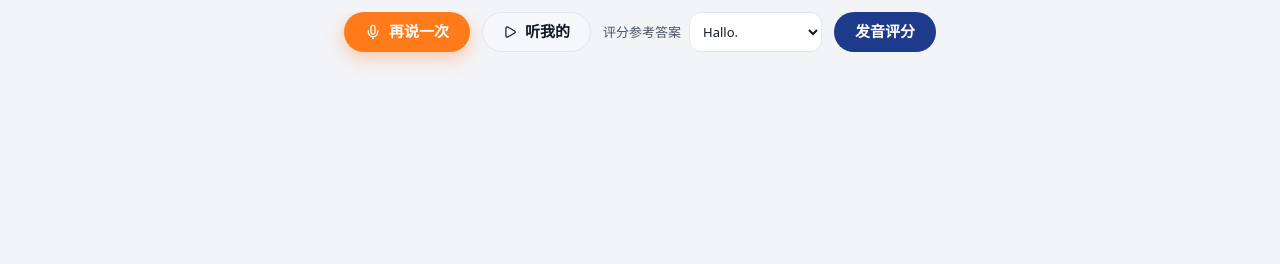
Test case: optional pronunciation scoring › scores a saved oral take against the selected reference and shows weak words
The width and height of the screenshot is (1280, 264).
Check: the button "发音评分" is shown, box left=834, top=12, right=936, bottom=52
Select "Goedemorgen." in the dropdown labelled "评分参考答案": (756, 32) left=689, top=12, right=822, bottom=52
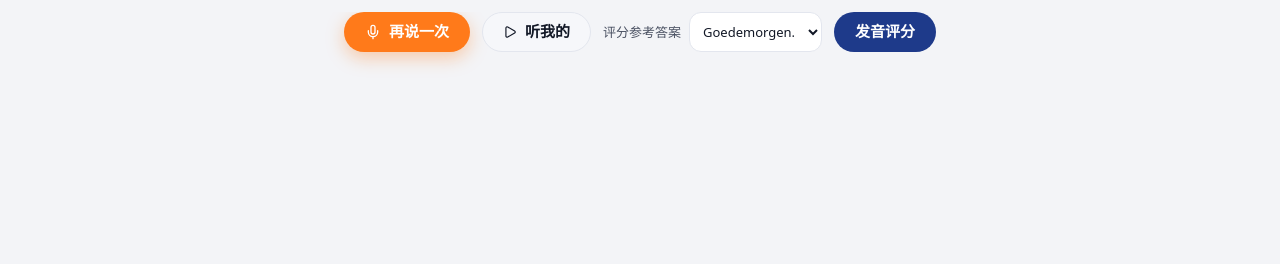
Click the button "发音评分": click(885, 32) left=834, top=12, right=936, bottom=52
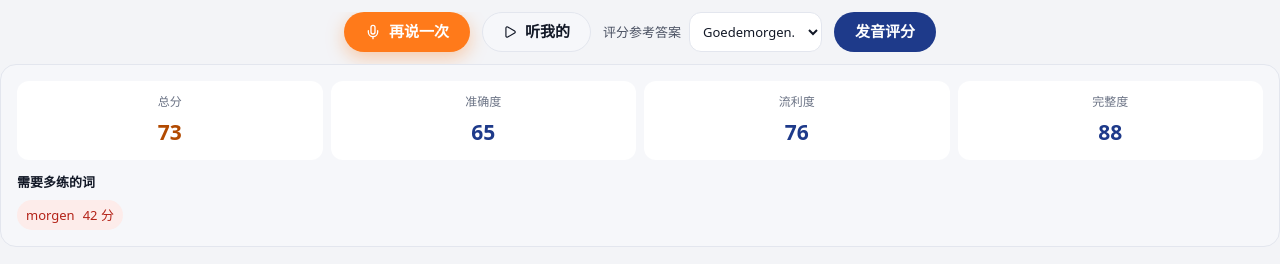
Check: the text "morgen" is shown, box left=26, top=205, right=75, bottom=225
Check: the text "总分" is shown, box left=158, top=93, right=182, bottom=110
Check: the text "73" is shown, box left=158, top=118, right=182, bottom=146
